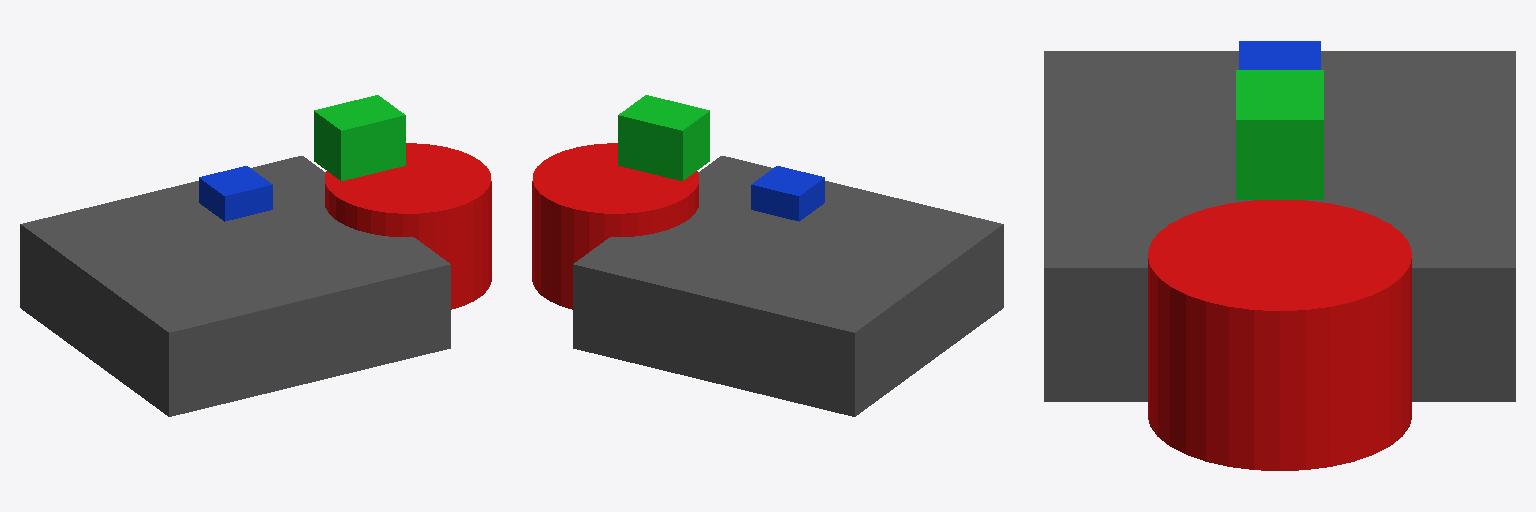
URDF robot description (raspbot):
<?xml version="1.0"?>
<!-- ============================================================================
  RASPBOT-V2 URDF —— 全车静态 TF / 外参的唯一来源

  维护：WP-E（CONTRACTS.md v1.2 §1/§3：raspbot_description/** 由 E 独占维护）
  坐标约定：ROS REP-103（x 前 / y 左 / z 上），长度米、角度弧度（右手定则）。
  本文件不使用 xacro：外参直接写数值，改动时同步本表与对应 joint 的 <origin>，
  并更新 README.md 的「外参标定表」。

  ┌────────────── 外参标定表（改外参 = 改本表 + 对应 joint 的 <origin>）──────────────┐
  │ joint                 | child          | x (m)   | y | z (m)   | rpy     | 来源/状态                          │
  │ base_footprint_joint  | base_footprint |  0.000  | 0 |  0.000  | 0 0 0   | base_link 即地面轴距中点，投影重合      │
  │ laser_joint           | laser          | +0.107  | 0 | +0.034  | 0 0 0   | J-04 契约值（雷达在车头前/上方），       │
  │                       |                |         |   |         |         | 待 CAR-C05 卷尺复核                  │
  │ imu_joint             | imu_link       |  0.000  | 0 | +0.080  | 0 0 0   | 设计 §5.5.5：IMU 约在甲板上方 40 mm、   │
  │                       |                |         |   |         |         | 接近车体几何中心，初值待卷尺复核        │
  │ camera_joint          | camera_link    | +0.077  | 0 | +0.095  | 0 0 0   | 初值占位（云台/甲板前缘），             │
  │                       |                |         |   |         |         | pitch=0.0 待 CAR-C05/C06 标定         │
  │ ultrasonic_joint      | ultrasonic     | +0.070  | 0 | +0.030  | 0 0 0   | 车头超声，初值占位                    │
  └────────────────────────────────────────────────────────────────────────────────────┘

  规则（CONTRACTS §3）：
  - 上表所有变换只能由 robot_state_publisher（读本 URDF）发布；
  - 禁止在其他节点重复发布、禁止 static_transform_publisher 发布动态变换；
  - frame 命名固定：base_link / odom / map / laser / imu_link / camera_link / ultrasonic。

  odom→base_link 由 ekf_node（raspbot_fusion，WP-E）发布，不在本文件内。
============================================================================ -->
<robot name="raspbot">

  <!-- ================= base_link：车体（轴距中点、地面高度） ================= -->
  <link name="base_link">
    <visual>
      <geometry>
        <box size="0.175 0.160 0.050"/>
      </geometry>
      <origin xyz="0 0 0.025" rpy="0 0 0"/>
      <material name="chassis_grey">
        <color rgba="0.4 0.4 0.4 1.0"/>
      </material>
    </visual>
    <collision>
      <geometry>
        <box size="0.175 0.160 0.050"/>
      </geometry>
      <origin xyz="0 0 0.025" rpy="0 0 0"/>
    </collision>
    <inertial>
      <mass value="1.0"/>
      <origin xyz="0 0 0.025" rpy="0 0 0"/>
      <inertia ixx="0.00234" ixy="0.0" ixz="0.0"
               iyy="0.00276" iyz="0.0"
               izz="0.00469"/>
    </inertial>
  </link>

  <!-- ================= base_footprint：地面投影（与 base_link 原点重合） ================= -->
  <link name="base_footprint">
    <visual>
      <geometry>
        <box size="0.030 0.030 0.004"/>
      </geometry>
      <origin xyz="0 0 -0.002" rpy="0 0 0"/>
      <material name="footprint_grey">
        <color rgba="0.6 0.6 0.6 0.5"/>
      </material>
    </visual>
    <inertial>
      <mass value="0.001"/>
      <inertia ixx="1e-8" ixy="0.0" ixz="0.0"
               iyy="1e-8" iyz="0.0"
               izz="1e-8"/>
    </inertial>
  </link>

  <!-- ================= laser：激光雷达（RPLIDAR C1，车头前 +0.107 m / 上 +0.034 m） ================= -->
  <link name="laser">
    <visual>
      <geometry>
        <cylinder radius="0.045" length="0.060"/>
      </geometry>
      <origin xyz="0 0 0" rpy="0 0 0"/>
      <material name="laser_red">
        <color rgba="0.9 0.1 0.1 1.0"/>
      </material>
    </visual>
    <inertial>
      <mass value="0.2"/>
      <inertia ixx="0.000161" ixy="0.0" ixz="0.0"
               iyy="0.000161" iyz="0.0"
               izz="0.000202"/>
    </inertial>
  </link>

  <!-- ================= imu_link：HWT101（约甲板上方 40 mm，接近几何中心） ================= -->
  <link name="imu_link">
    <visual>
      <geometry>
        <box size="0.030 0.028 0.015"/>
      </geometry>
      <origin xyz="0 0 0" rpy="0 0 0"/>
      <material name="imu_blue">
        <color rgba="0.1 0.3 0.9 1.0"/>
      </material>
    </visual>
    <inertial>
      <mass value="0.01"/>
      <inertia ixx="8.4e-7" ixy="0.0" ixz="0.0"
               iyy="9.4e-7" iyz="0.0"
               izz="1.4e-6"/>
    </inertial>
  </link>

  <!-- ================= camera_link：云台相机（初值占位，待 CAR-C05/C06 标定） ================= -->
  <link name="camera_link">
    <visual>
      <geometry>
        <box size="0.040 0.030 0.030"/>
      </geometry>
      <origin xyz="0 0 0" rpy="0 0 0"/>
      <material name="camera_green">
        <color rgba="0.1 0.8 0.2 1.0"/>
      </material>
    </visual>
    <inertial>
      <mass value="0.05"/>
      <inertia ixx="7.5e-6" ixy="0.0" ixz="0.0"
               iyy="1.0e-5" iyz="0.0"
               izz="1.0e-5"/>
    </inertial>
  </link>

  <!-- ================= ultrasonic：车头超声（初值占位） ================= -->
  <link name="ultrasonic">
    <visual>
      <geometry>
        <cylinder radius="0.010" length="0.030"/>
      </geometry>
      <origin xyz="0 0 0" rpy="1.5707963 0 0"/>
      <material name="ultrasonic_orange">
        <color rgba="0.9 0.5 0.1 1.0"/>
      </material>
    </visual>
    <inertial>
      <mass value="0.01"/>
      <inertia ixx="1e-6" ixy="0.0" ixz="0.0"
               iyy="1e-6" iyz="0.0"
               izz="5e-7"/>
    </inertial>
  </link>

  <!-- ============================ fixed joints（外参） ============================ -->

  <!-- base_footprint：相对 base_link 平移 0（base_link 即地面轴距中点） -->
  <joint name="base_footprint_joint" type="fixed">
    <parent link="base_link"/>
    <child link="base_footprint"/>
    <origin xyz="0.000 0.000 0.000" rpy="0 0 0"/>
  </joint>

  <!-- laser：J-04 —— 雷达在车头前 +0.107 m、上方 +0.034 m（待 CAR-C05 卷尺复核） -->
  <joint name="laser_joint" type="fixed">
    <parent link="base_link"/>
    <child link="laser"/>
    <origin xyz="0.107 0.000 0.034" rpy="0 0 0"/>
  </joint>

  <!-- imu_link：设计 §5.5.5 —— 甲板上方约 40 mm（z=+0.08 初值，待卷尺复核） -->
  <joint name="imu_joint" type="fixed">
    <parent link="base_link"/>
    <child link="imu_link"/>
    <origin xyz="0.000 0.000 0.080" rpy="0 0 0"/>
  </joint>

  <!-- camera_link：初值占位（pitch=0.0），待 CAR-C05/C06 标定后更新 -->
  <joint name="camera_joint" type="fixed">
    <parent link="base_link"/>
    <child link="camera_link"/>
    <origin xyz="0.077 0.000 0.095" rpy="0 0 0"/>
  </joint>

  <!-- ultrasonic：车头超声，初值占位 -->
  <joint name="ultrasonic_joint" type="fixed">
    <parent link="base_link"/>
    <child link="ultrasonic"/>
    <origin xyz="0.070 0.000 0.030" rpy="0 0 0"/>
  </joint>

</robot>

--- Facts derived from the render (not from the file) ---
3 views of the same robot in one strip: view 1: azimuth 30°, elevation 25°; view 2: azimuth 150°, elevation 25°; view 3: azimuth 270°, elevation 25° (orthographic).
Robot: raspbot — 6 links, 5 joints (5 fixed); root link base_link; default pose: every joint at zero.
Visible links, largest first — view 1: base_link, laser, camera_link, imu_link; view 2: base_link, laser, camera_link, imu_link; view 3: base_link, laser, camera_link, imu_link.
Boxes of the visible links, x1=… form: base_link: x1=20, y1=156, x2=450, y2=416; laser: x1=325, y1=143, x2=491, y2=309; camera_link: x1=314, y1=95, x2=405, y2=180; imu_link: x1=199, y1=166, x2=272, y2=221; base_link: x1=573, y1=156, x2=1003, y2=416; laser: x1=532, y1=143, x2=698, y2=309; camera_link: x1=618, y1=95, x2=709, y2=180; imu_link: x1=751, y1=166, x2=824, y2=221; base_link: x1=1044, y1=51, x2=1515, y2=401; laser: x1=1148, y1=200, x2=1411, y2=470; camera_link: x1=1236, y1=70, x2=1323, y2=199; imu_link: x1=1239, y1=41, x2=1320, y2=69.
Size in the robot's own frame: 0.2395 by 0.16 by 0.114 metres.
Geometry: primitives only (box / cylinder / sphere), no mesh files.
